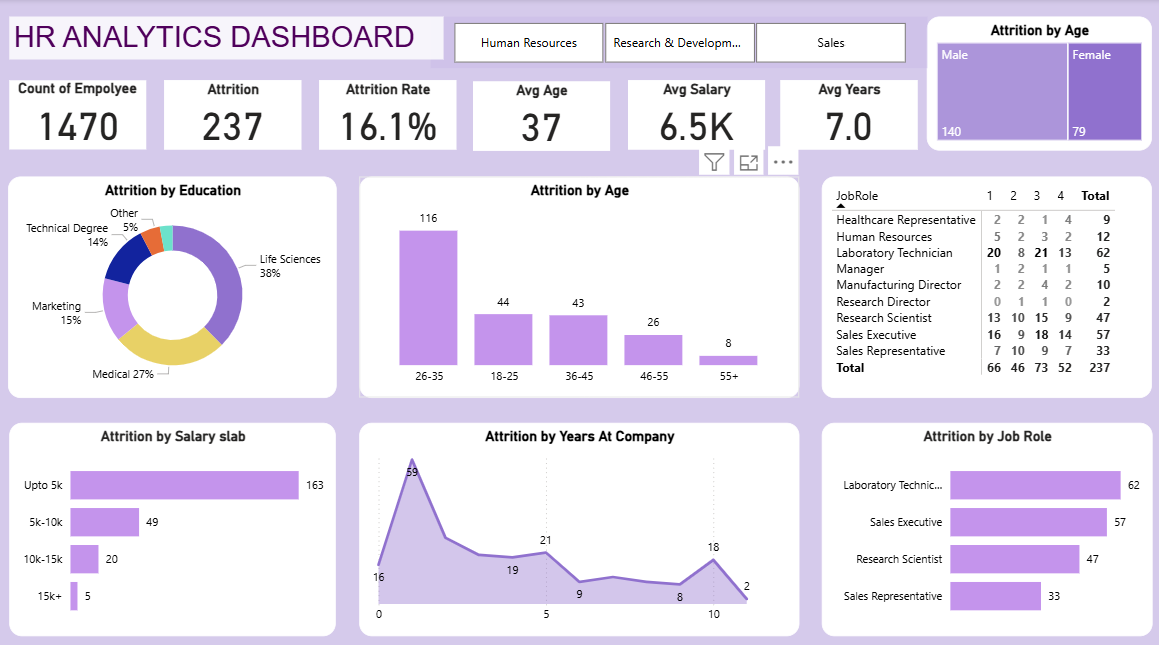

The page's visual inventory and layout, read from the dashboard file:
{"tool":"powerbi","page":{"name":"Page 1","canvas":[1280,720],"ordinal":0},"visuals":[{"type":"card","title":"Count of Empolyee","fields":{"Values":["CountNonNull(HR_Analytics (1).EmpID)"]},"box":[12.9,88.6,150,75.7],"z":0},{"type":"card","title":"Attrition","fields":{"Values":["Sum(HR_Analytics (1).AttritionCount)"]},"box":[182.9,88.6,150,75.7],"z":1000},{"type":"card","title":"Avg Age","fields":{"Values":["Avg(HR_Analytics (1).Age)"]},"box":[521.4,90,150,75.7],"z":2000},{"type":"card","title":"Attrition Rate","fields":{"Values":["HR_Analytics (1).AttritionRate"]},"box":[352.9,88.6,150,75.7],"z":3000},{"type":"card","title":"Avg Salary","fields":{"Values":["Avg(HR_Analytics (1).MonthlyIncome)"]},"box":[691.4,88.6,150,75.7],"z":4000},{"type":"card","title":"Avg Years","fields":{"Values":["Avg(HR_Analytics (1).YearsAtCompany)"]},"box":[858.6,88.6,150,75.7],"z":5000},{"type":"columnChart","title":"Attrition by Age","fields":{"Category":["HR_Analytics (1).AgeGroup"],"Y":["Sum(HR_Analytics (1).AttritionCount)"]},"box":[396.6,194.9,483,242.9],"z":6000},{"type":"donutChart","title":"Attrition by Education","fields":{"Category":["HR_Analytics (1).EducationField"],"Y":["Sum(HR_Analytics (1).AttritionCount)"]},"box":[11,194.9,360.9,242.9],"z":7000},{"type":"pivotTable","fields":{"Rows":["HR_Analytics (1).JobRole"],"Columns":["HR_Analytics (1).JobSatisfaction"],"Values":["Sum(HR_Analytics (1).AttritionCount)"]},"box":[904.3,194.9,362.3,242.9],"z":8000},{"type":"barChart","title":"Attrition by Salary slab","fields":{"Category":["HR_Analytics (1).SalarySlab"],"Y":["Sum(HR_Analytics (1).AttritionCount)"]},"box":[12.9,465.7,358.6,234.3],"z":9000},{"type":"barChart","title":"Attrition by Job Role","fields":{"Category":["HR_Analytics (1).JobRole"],"Y":["Sum(HR_Analytics (1).AttritionCount)"]},"box":[904.3,465.7,362.9,234.3],"z":10000},{"type":"areaChart","title":"Attrition by Years At Company","fields":{"Category":["HR_Analytics (1).YearsAtCompany"],"Y":["Sum(HR_Analytics (1).AttritionCount)"]},"box":[396.6,465.2,483,234.6],"z":11000},{"type":"treemap","title":"Attrition by Age","fields":{"Group":["HR_Analytics (1).Gender"],"Values":["Sum(HR_Analytics (1).AttritionCount)"]},"box":[1019.6,19.2,247,146.8],"z":12000},{"type":"slicer","fields":{"Values":["HR_Analytics (1).Department"]},"box":[474.3,18.6,545.7,57.1],"z":13000},{"type":"textbox","box":[12.9,18.6,477.1,47.1],"z":14000}]}

Visuals, with their boxes in screenshot pixels (x1, y1, x2, y2), scaled from the page's 1280x720 canvas onto the 1159x645 screenshot:
"Count of Empolyee" card: 12,79,148,147
"Attrition" card: 166,79,301,147
"Avg Age" card: 472,81,608,148
"Attrition Rate" card: 320,79,455,147
"Avg Salary" card: 626,79,762,147
"Avg Years" card: 777,79,913,147
"Attrition by Age" columnChart: 359,175,796,392
"Attrition by Education" donutChart: 10,175,337,392
pivotTable - HR_Analytics (1).JobRole x HR_Analytics (1).JobSatisfaction: 819,175,1147,392
"Attrition by Salary slab" barChart: 12,417,336,627
"Attrition by Job Role" barChart: 819,417,1147,627
"Attrition by Years At Company" areaChart: 359,417,796,627
"Attrition by Age" treemap: 923,17,1147,149
slicer - HR_Analytics (1).Department: 429,17,924,68
textbox: 12,17,444,59
